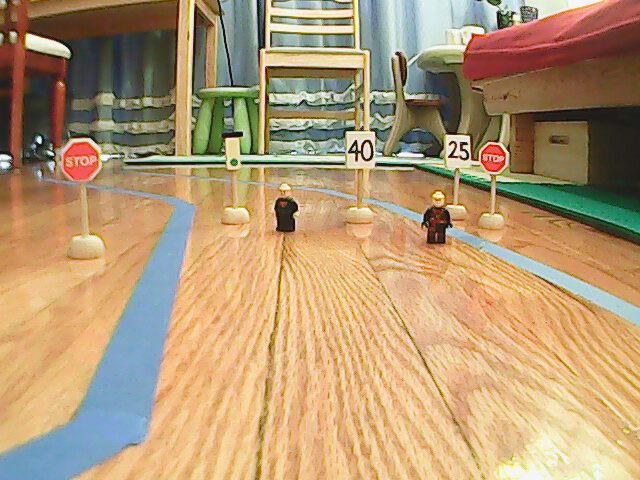Green Traffic Light: (220, 133, 245, 171)
Person: (421, 191, 454, 245), (270, 184, 301, 236)
Speed Limit 25: (442, 134, 471, 170)
Speed Limit 40: (344, 131, 378, 169)
Stop Sign: (58, 136, 105, 184), (478, 141, 510, 175)
